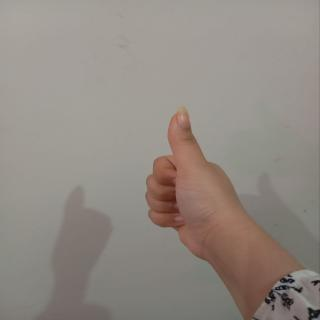ALIF: (142, 105, 244, 283)
